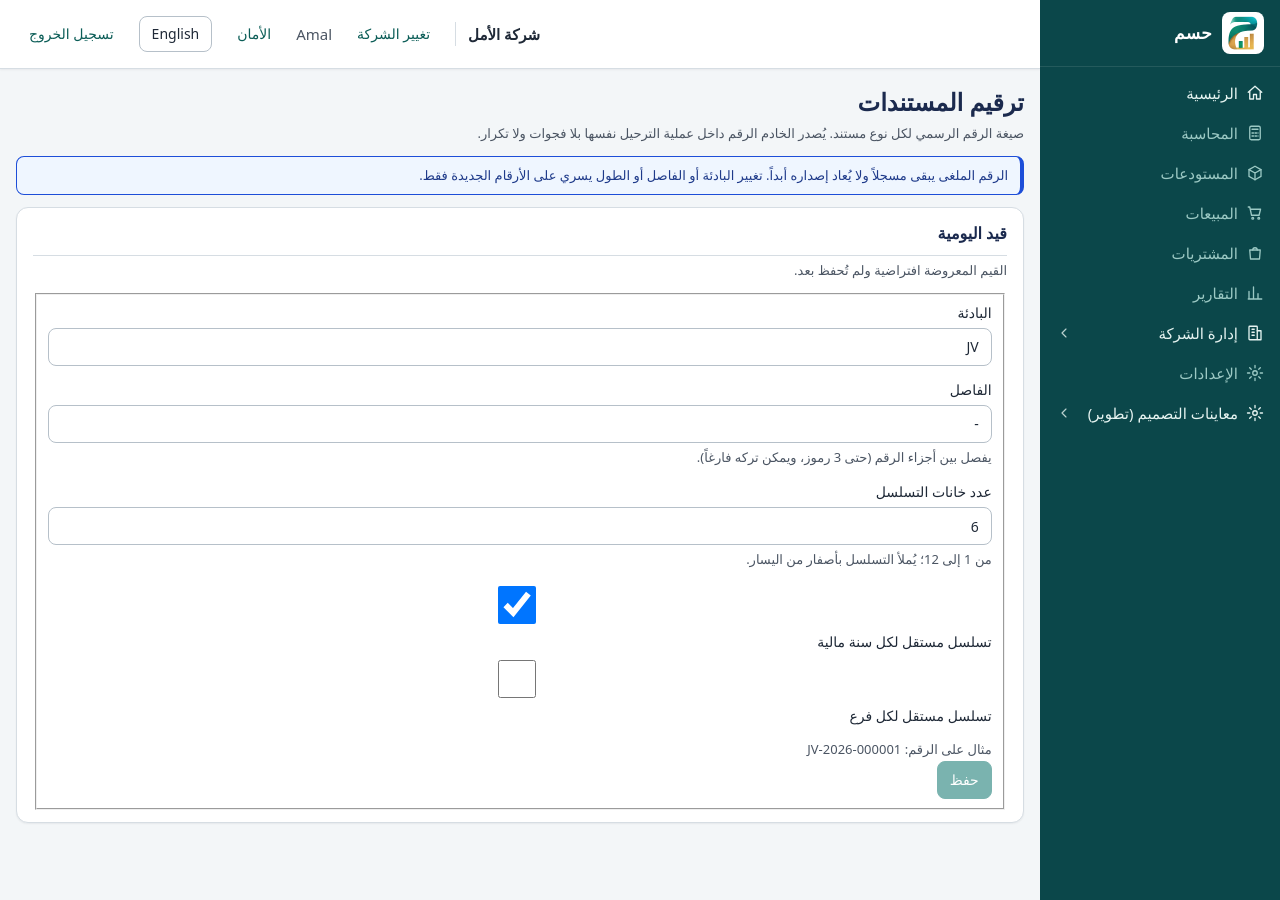
Test: document numbering screen › reports an edit made elsewhere without losing the screen
Check: the element with test id "company-name" is shown, box [455, 22, 540, 46]
Type "X" into the field labelled "البادئة" at {"x": 520, "y": 347}, box [48, 328, 992, 366]
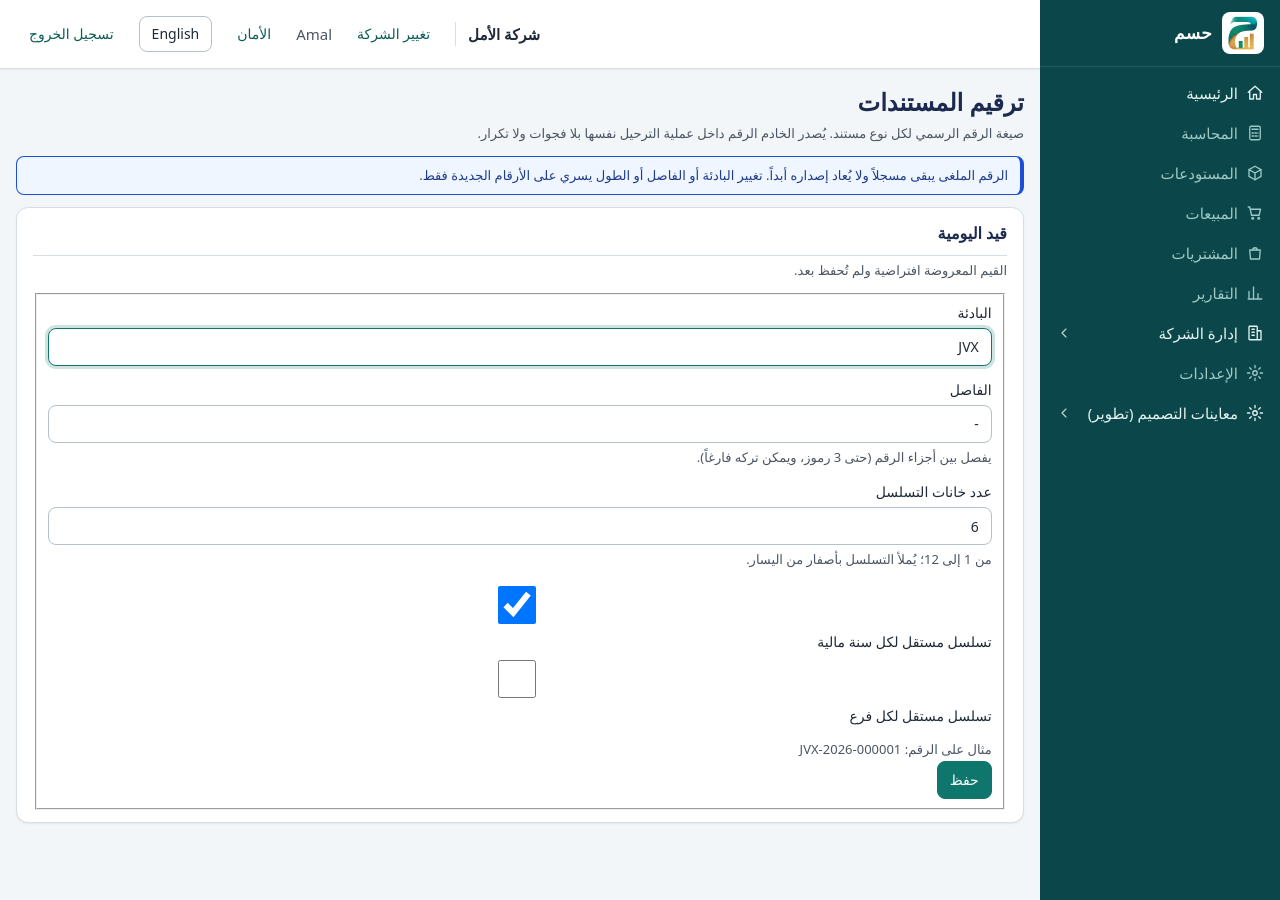
Click the button "حفظ" at {"x": 964, "y": 780}, box [937, 760, 992, 798]
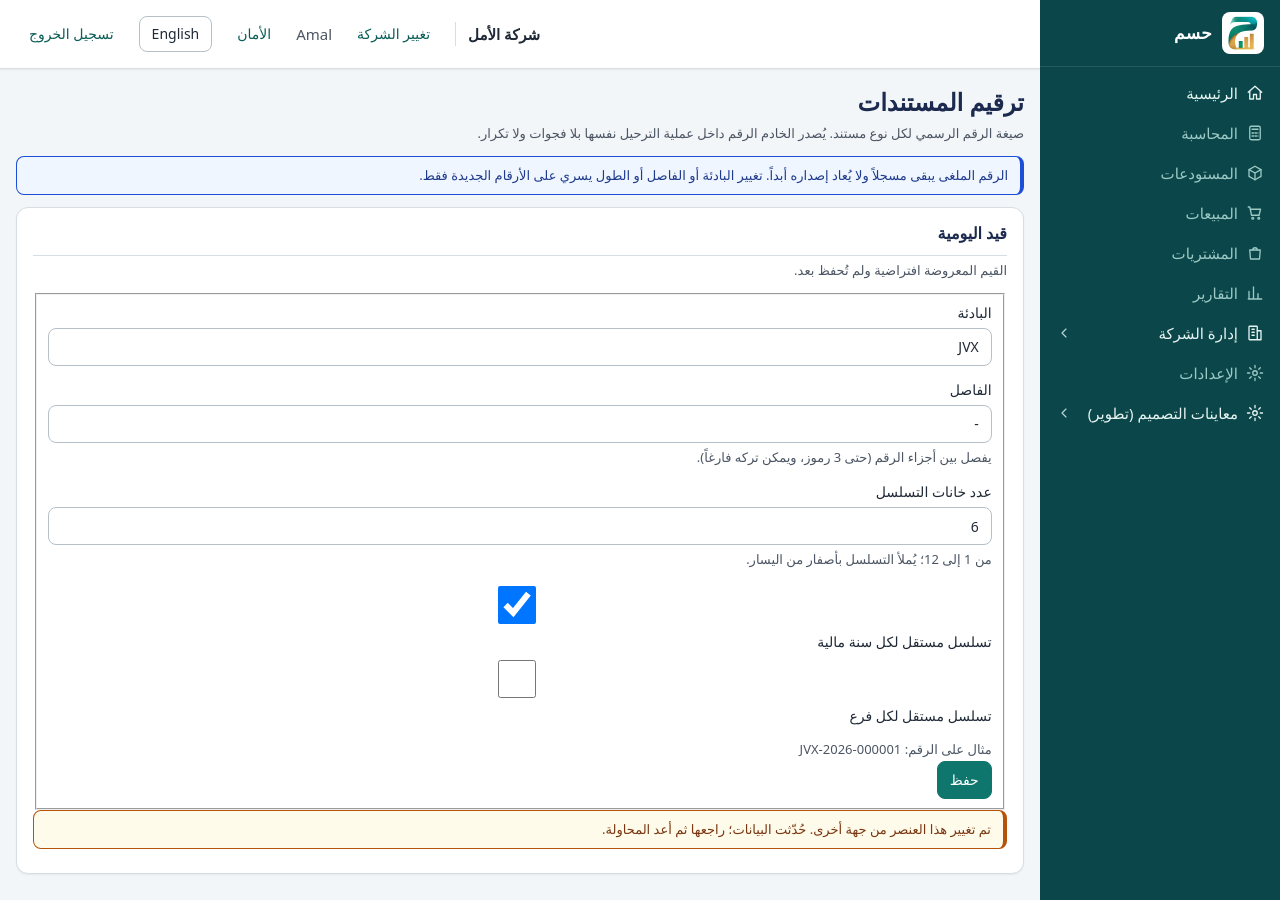
Check: the message with test id "numbering-conflict" reads "تم تغيير هذا العنصر من جهة أخرى. حُدّثت البيانات؛ راجعها ثم أعد المحاولة.", box [602, 820, 991, 838]
